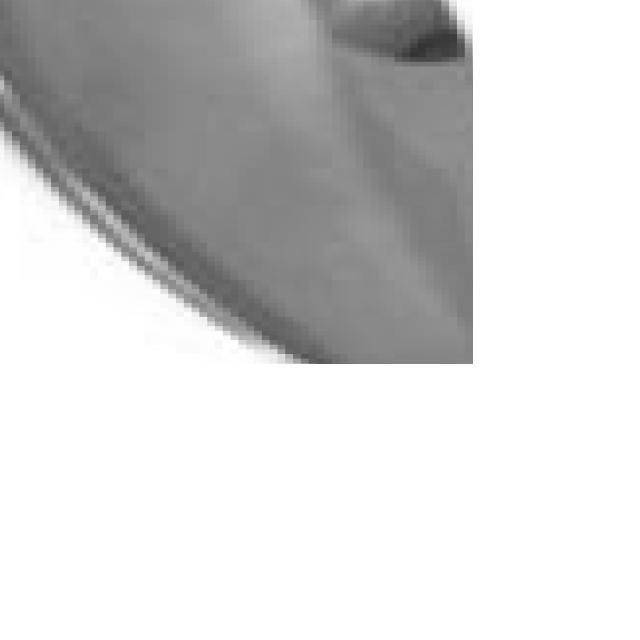spoons: (0, 0, 473, 364)
